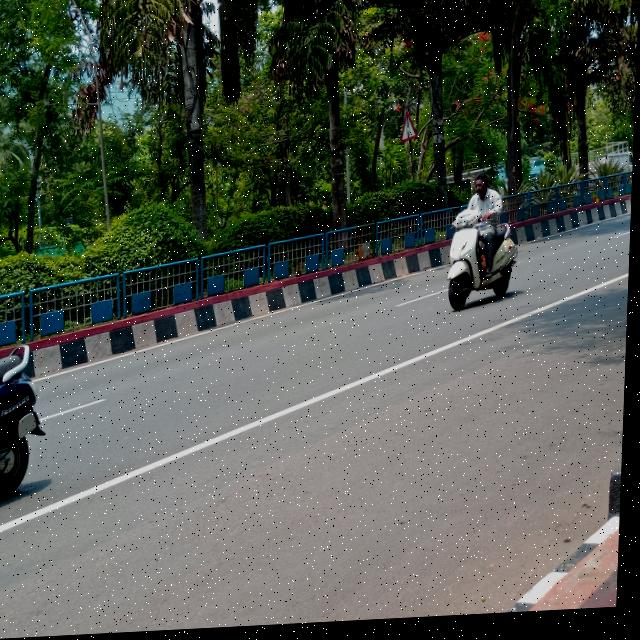bike: (0, 332, 61, 501), (447, 207, 527, 314)
